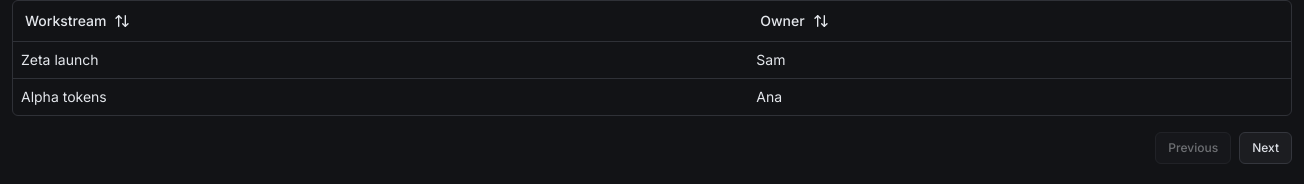
DataTable › paginates with next and previous
Expected: the cell "Zeta launch" is shown, x1=13 y1=41 x2=748 y2=78
Expected: the cell "Alpha tokens" is shown, x1=13 y1=78 x2=748 y2=114
Click the button "Next" at (1266, 148), box x1=1239 y1=132 x2=1292 y2=164
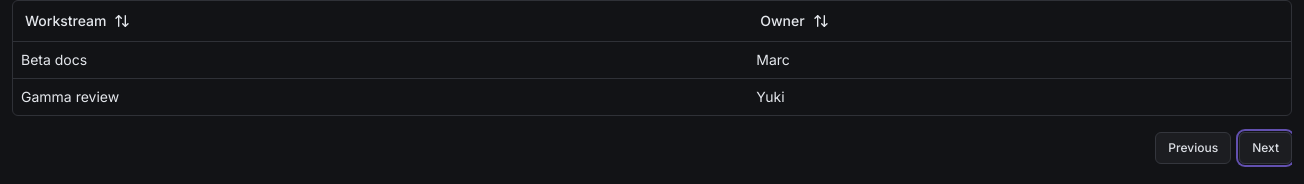
Expected: the cell "Beta docs" is shown, x1=13 y1=41 x2=748 y2=78
Expected: the cell "Gamma review" is shown, x1=13 y1=78 x2=748 y2=114
Expected: the cell "Zeta launch" is gone
Click the button "Next" at (1266, 148), box x1=1239 y1=132 x2=1292 y2=164
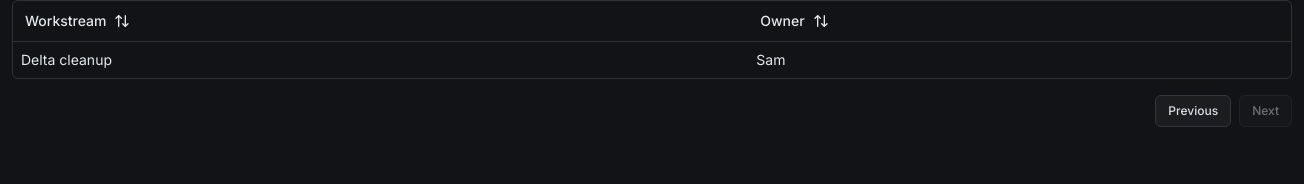
Expected: the cell "Delta cleanup" is shown, x1=13 y1=41 x2=748 y2=78
Expected: the button "Next" is disabled, x1=1239 y1=94 x2=1292 y2=126
Click the button "Previous" at (1193, 110), box x1=1155 y1=94 x2=1231 y2=126
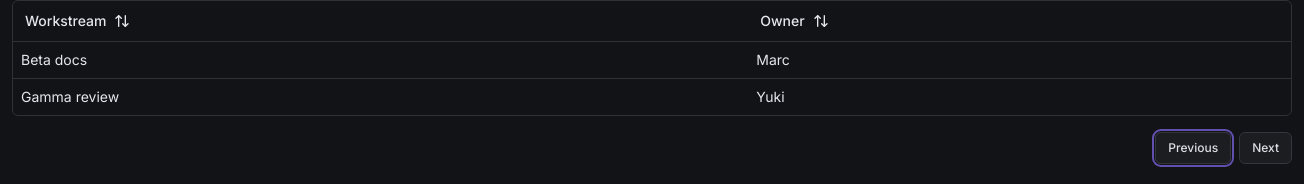
Expected: the cell "Beta docs" is shown, x1=13 y1=41 x2=748 y2=78
